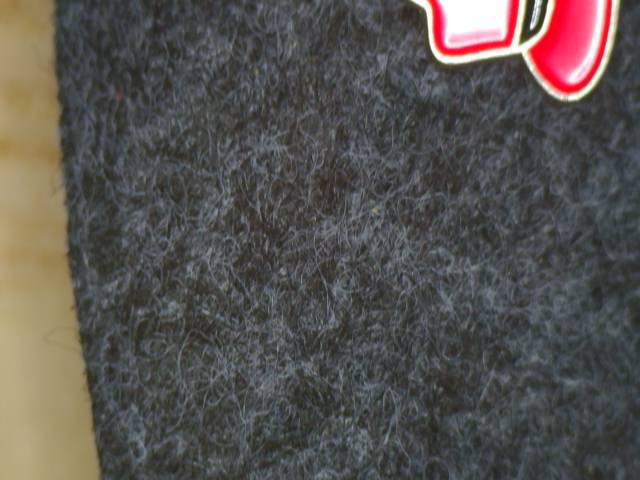Red-Hat: (394, 0, 636, 126)
